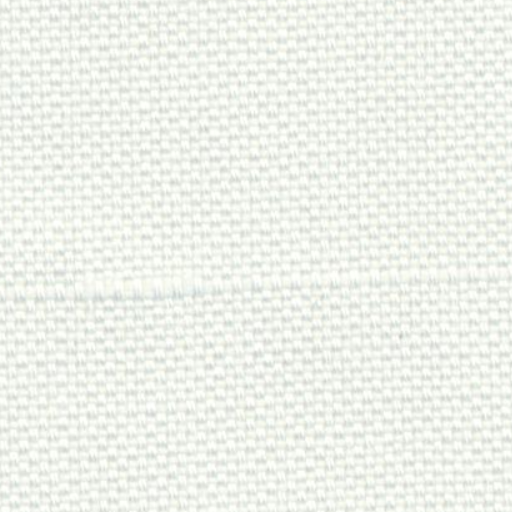DaiSha: (14, 262, 500, 306)
